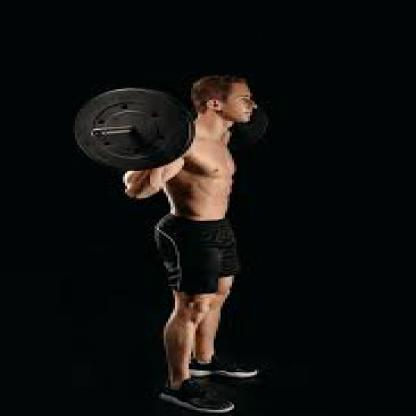Barbell: (85, 125, 110, 143)
